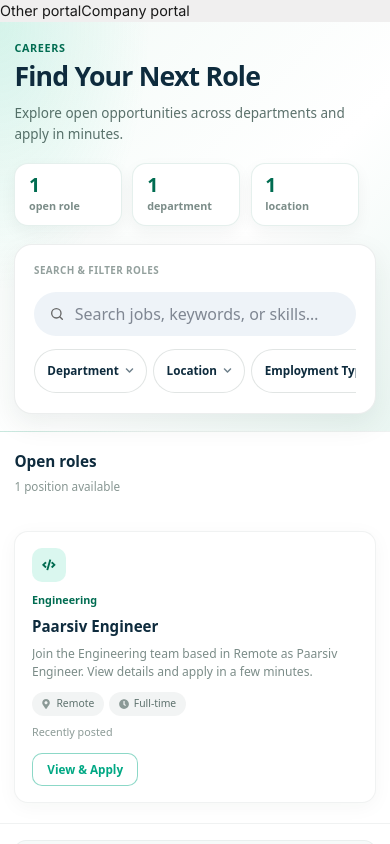
Test: career portal organization navigation › uses the URL identifier and removes old jobs and errors when changing portals
Expected: the heading "Paarsiv Engineer" is shown, [32,616,158,636]
What coordinates should you click on to do the following:
click the link "Other portal"
I would click on:
 (41, 10)
Its box is [0,2,81,19].
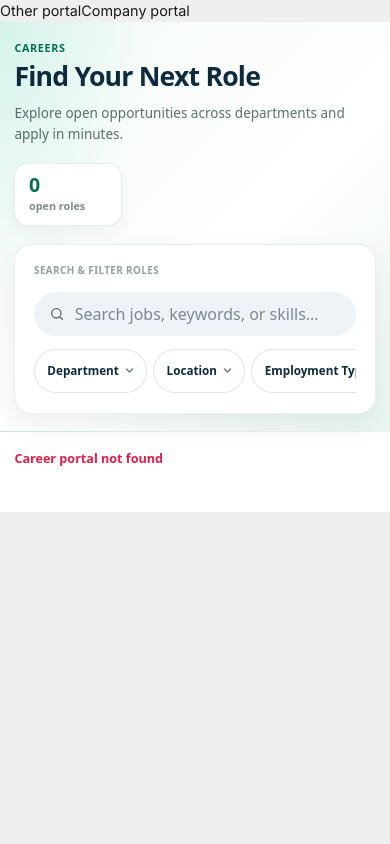
Expected: the text "Career portal not found" is shown, [14,450,163,467]
Expected: the link "Paarsiv Engineer" is gone
What coordinates should you click on to do the following:
click the link "Company portal"
I would click on:
 (136, 10)
Its box is [81,2,190,19].
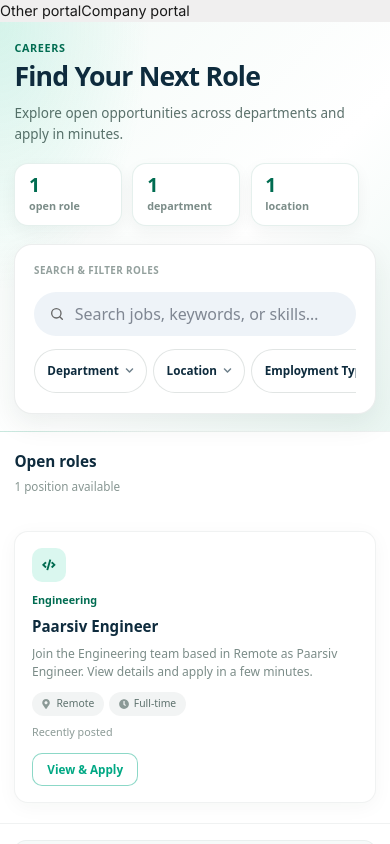
Expected: the heading "Paarsiv Engineer" is shown, [32,616,158,636]
Expected: the text "Career portal not found" is gone
